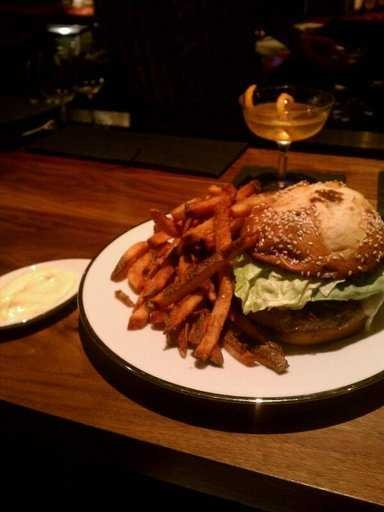hamburger: (246, 156, 381, 336)
